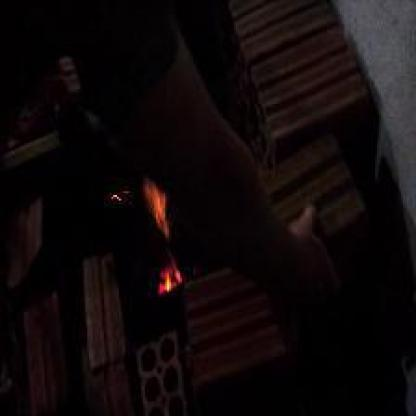Fire: (141, 177, 187, 240), (154, 266, 191, 296)
